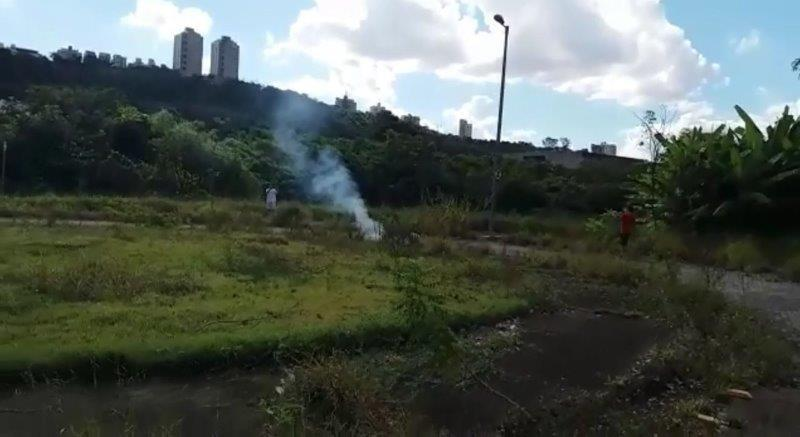smoke: (317, 163, 369, 221)
